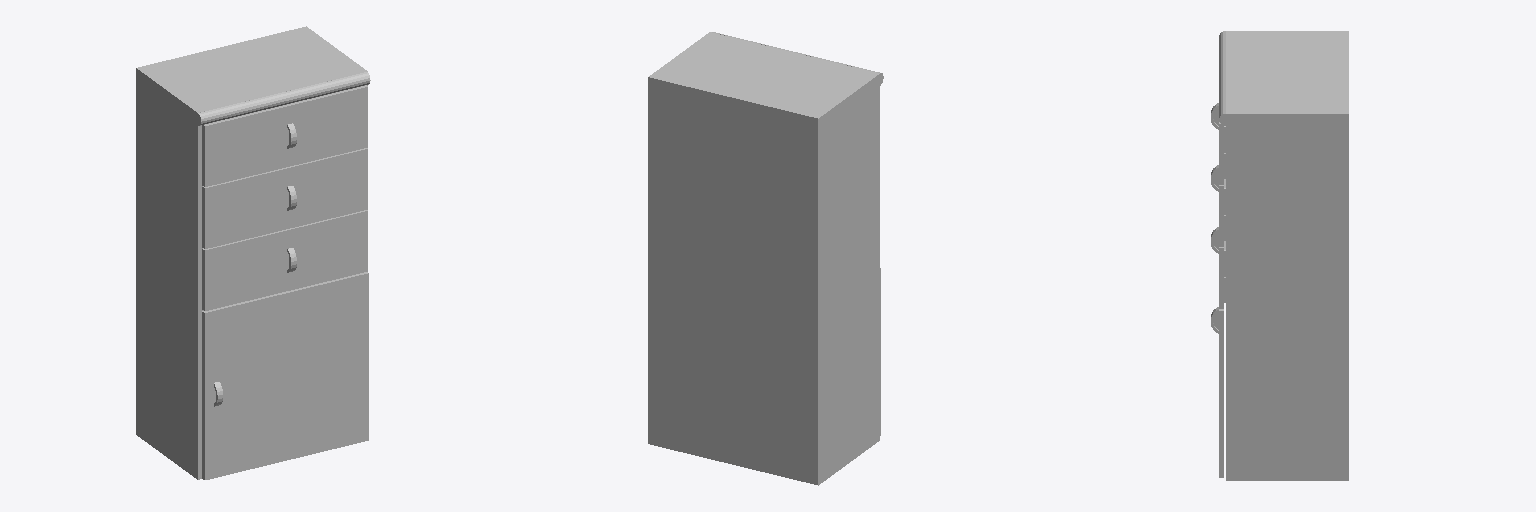
The model's file is cupboard.obj.
3 views of the same model, side by side, from view 1: azimuth 30°, elevation 25°; view 2: azimuth 150°, elevation 25°; view 3: azimuth 270°, elevation 25° (orthographic).
Visible parts, largest first — view 1: Box01, Box03, Box02, Box09, Box06, Cylinder05; view 2: Box01; view 3: Box01, Box03, Cylinder05.
Boxes of the visible parts, <box> form: Box01: <box>136,26,367,479</box>; Box03: <box>202,272,368,479</box>; Box02: <box>202,85,367,186</box>; Box09: <box>202,210,367,310</box>; Box06: <box>202,148,367,248</box>; Cylinder05: <box>198,72,370,125</box>; Box01: <box>648,32,879,485</box>; Box01: <box>1226,31,1348,480</box>; Box03: <box>1219,309,1223,477</box>; Cylinder05: <box>1219,31,1225,125</box>.
Bounding box in the file's own units: 22.55 × 46.42 × 15.91.